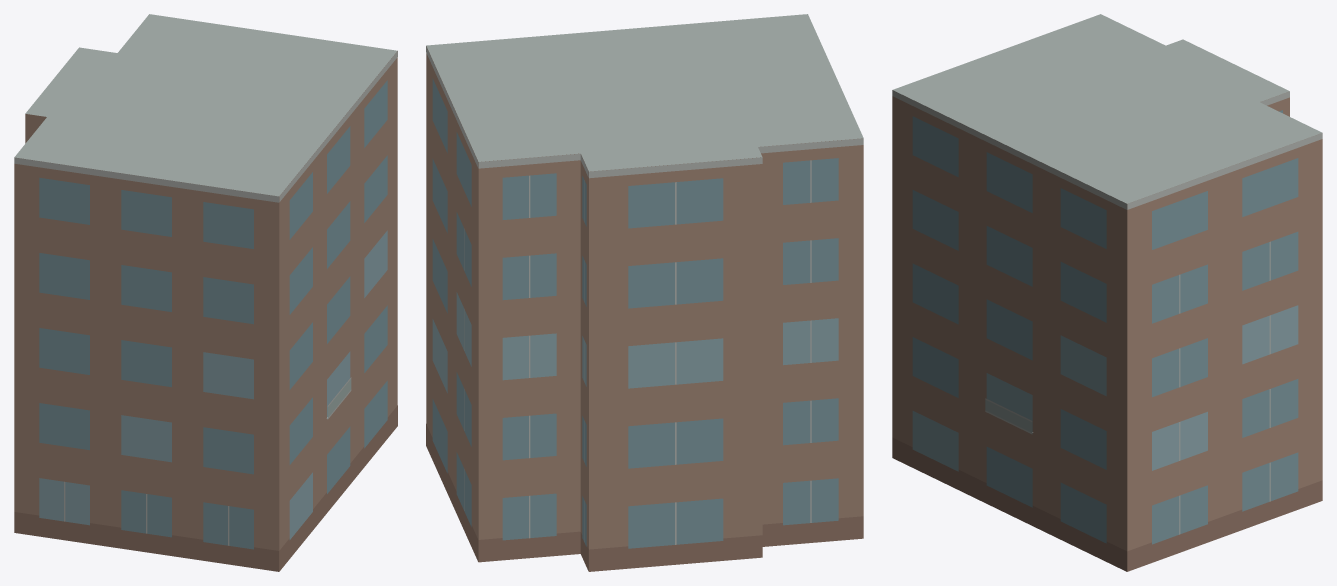
Rendered from survey-upis-32636603.glb.
3 renders of one model, left to right at view 1: azimuth 30°, elevation 25°; view 2: azimuth 150°, elevation 25°; view 3: azimuth 270°, elevation 25°, orthographic. The views are drawn at different scales.
Visible parts, largest first — view 1: survey-upis-32636603.tmp; view 2: survey-upis-32636603.tmp; view 3: survey-upis-32636603.tmp.
Boxes of the visible parts, x1,y1,x2,y2 form: survey-upis-32636603.tmp: (14,14,397,571); survey-upis-32636603.tmp: (426,14,863,571); survey-upis-32636603.tmp: (892,14,1322,571).
Bounding box in the file's own units: 16.16 × 14.6 × 15.48.
